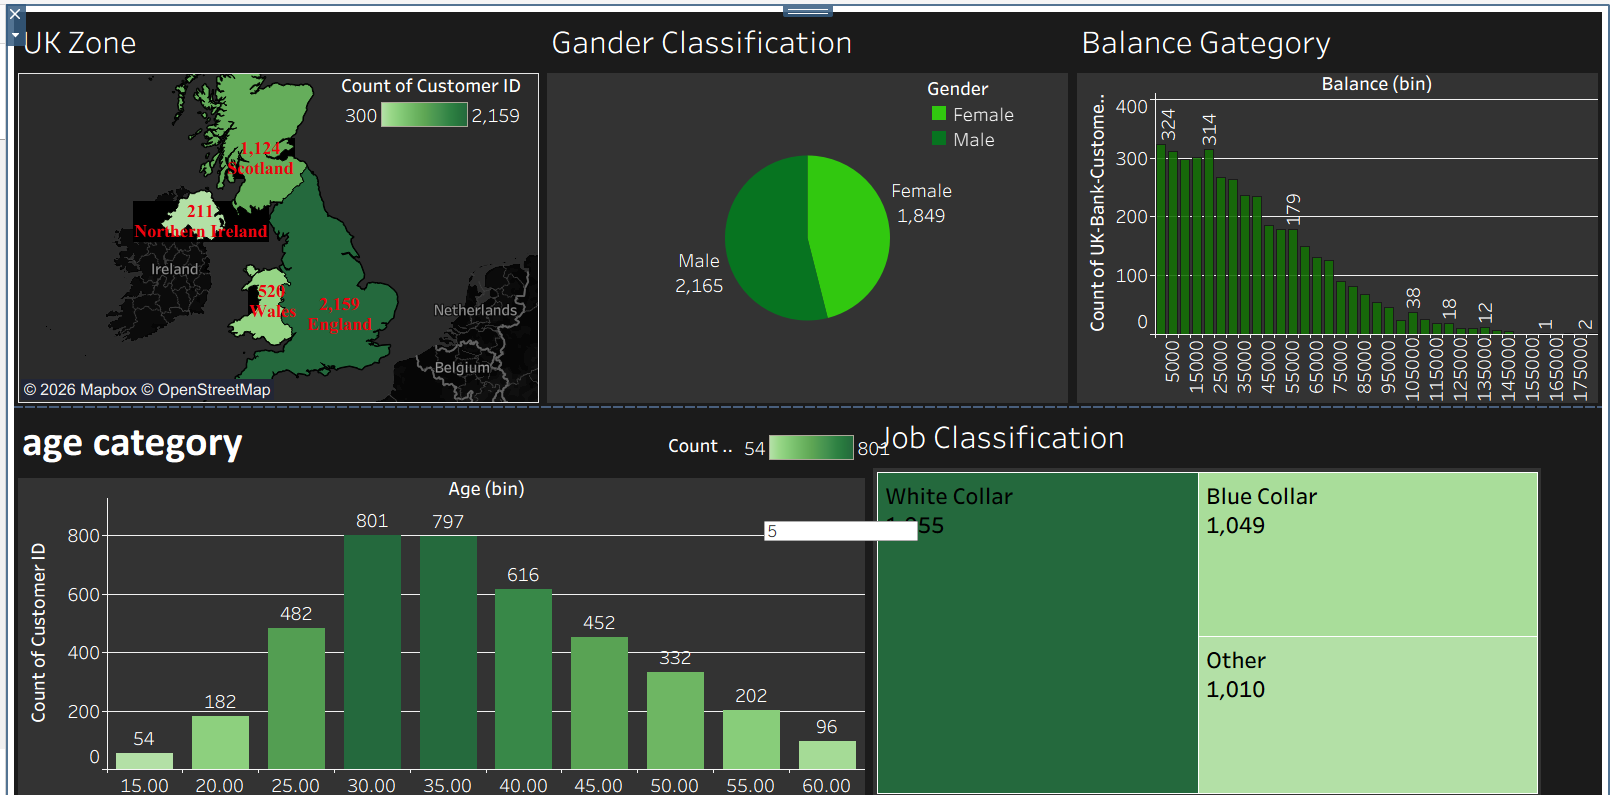

The dashboard page shown, as its layout file describes it:
{"tool":"tableau","page":{"name":"Dashboard 1","canvas":[1000,1000],"units":"permille","ordinal":0},"visuals":[{"type":"worksheet","title":"Sheet 1","mark":"Automatic","box":[5,9.9,323.3,490.1]},{"type":"worksheet","title":"Sheet 2","mark":"Pie","box":[328.3,9.9,338.2,490.1]},{"type":"worksheet","title":"Sheet 4","mark":"Automatic","rows":["UK-Bank-Customers.csv_2E9A54B7FD9C4519A5474CD35CB70A6D"],"cols":["Balance (bin)"],"box":[666.5,9.9,308.6,490.1]},{"type":"parameter","param":"[Parameters].[Balance Parameter]","box":[836.7,27.3,138.4,52.1]},{"type":"legend","title":"Sheet 1","param":"[federated.1iapye60irqejn15e7s9e1seppvk].[cnt:Customer ID:qk]","box":[208.8,84.4,114.7,81.9]},{"type":"legend","title":"Sheet 2","param":"[federated.1iapye60irqejn15e7s9e1seppvk].[none:Gender:nk]","box":[574.2,88.1,87.3,94.3]},{"type":"worksheet","title":"Sheet 3","mark":"Bar","rows":["Customer ID"],"cols":["Age (bin)"],"box":[5,500,533,490.1]},{"type":"worksheet","title":"Sheet 5","mark":"Automatic","box":[538,500,437,490.1]},{"type":"legend","title":"Sheet 3","param":"[federated.1iapye60irqejn15e7s9e1seppvk].[__tableau_internal_object_id__].[cnt:U","box":[370.9,507.4,165.8,69.5]},{"type":"parameter","param":"[Parameters].[Customer ID Parameter]","box":[422.7,584.4,99.8,64.5]}]}

Visuals, with their boxes on the dashboard's canvas, which has no fixed pixel size, in thousandths of its width and height (x1, y1, x2, y2). These are canvas units, not pixel positions in the 1610x795 screenshot, which may show the page scaled, cropped or inside an application window:
"Sheet 1" worksheet: select_region(5, 10, 328, 500)
"Sheet 2" worksheet (Pie marks): select_region(328, 10, 666, 500)
"Sheet 4" worksheet: select_region(666, 10, 975, 500)
parameter: select_region(837, 27, 975, 79)
"Sheet 1" legend: select_region(209, 84, 324, 166)
"Sheet 2" legend: select_region(574, 88, 662, 182)
"Sheet 3" worksheet (Bar marks): select_region(5, 500, 538, 990)
"Sheet 5" worksheet: select_region(538, 500, 975, 990)
"Sheet 3" legend: select_region(371, 507, 537, 577)
parameter: select_region(423, 584, 522, 649)
